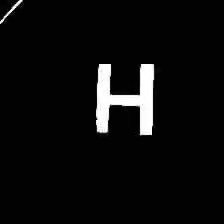LTR_H: (89, 56, 163, 139)
